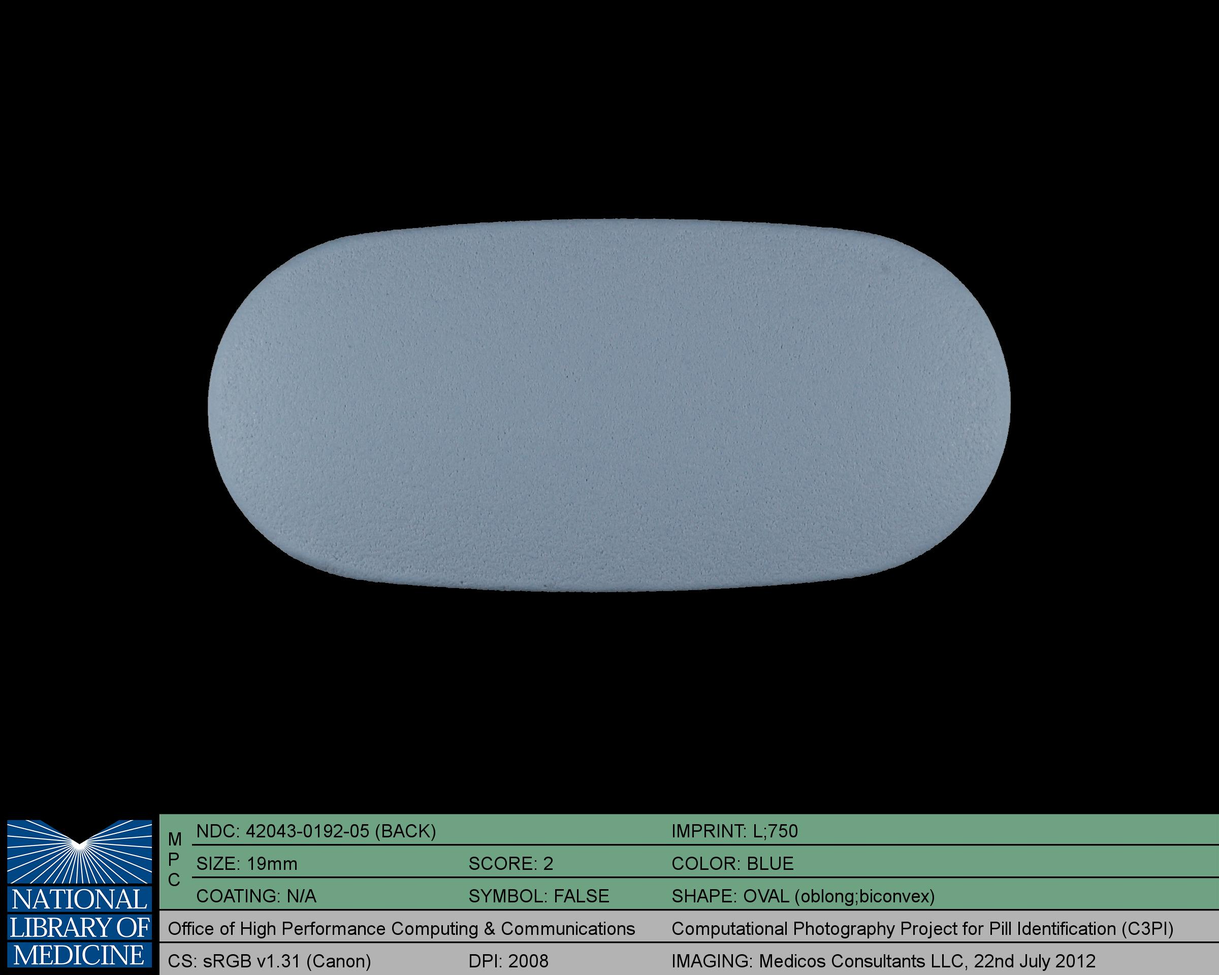Pill: (196, 207, 1024, 604)
